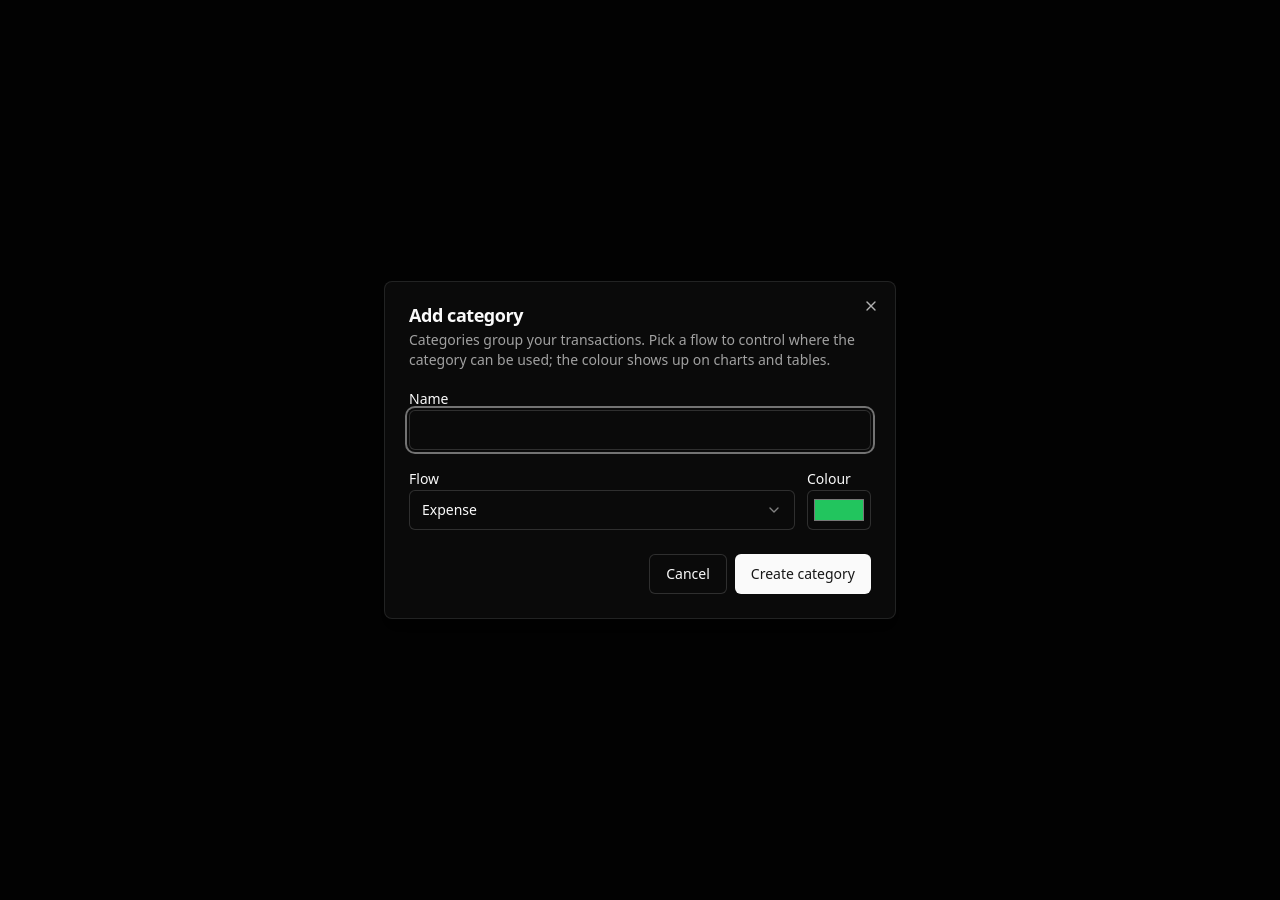
Test case: CreateCategoryDialog (controlled) › shows an error toast when creation fails
The image size is (1280, 900).
Type "Groceries" into the field with test id "category-name-input". click: (640, 430)
box: top-left (409, 410), bottom-right (871, 450)
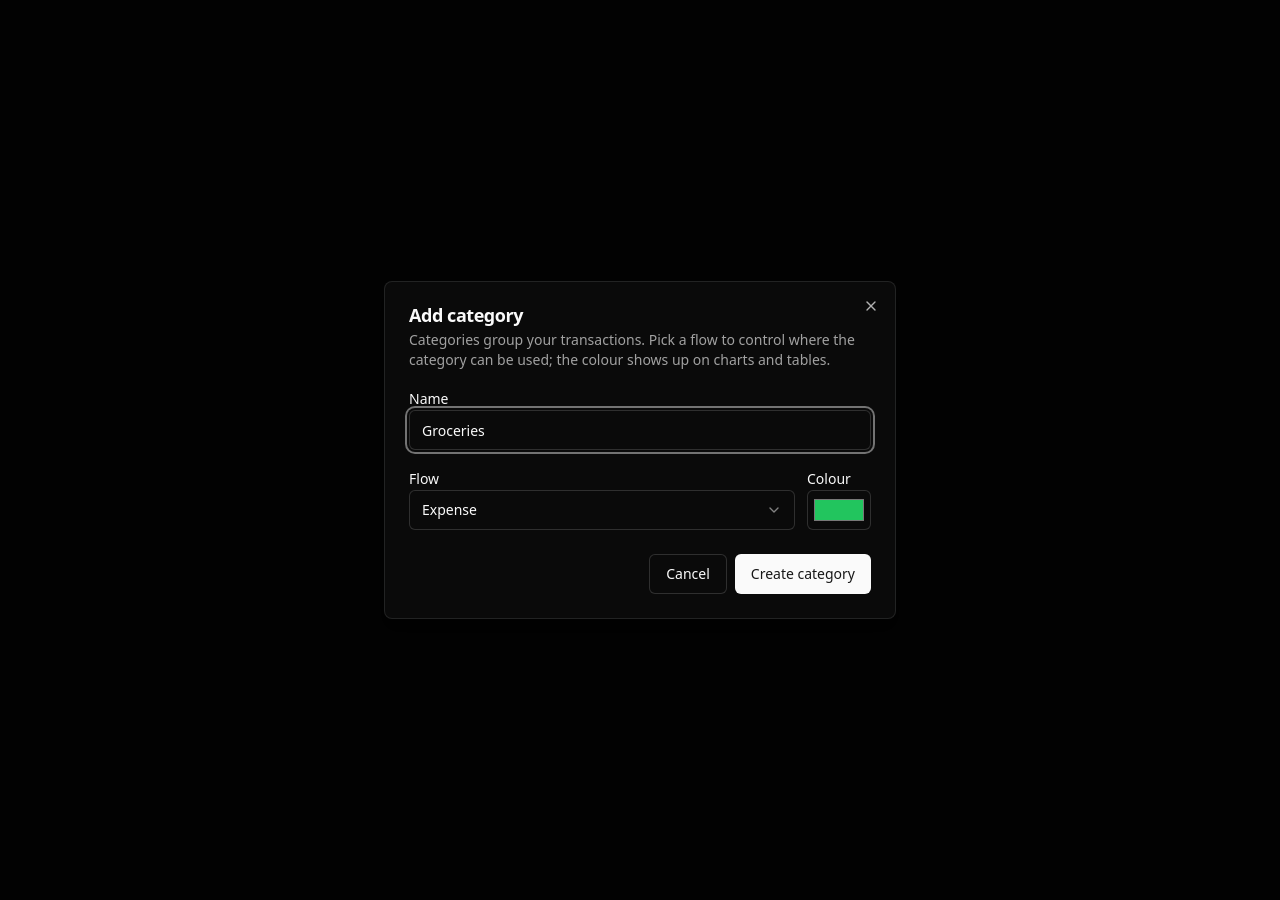
Click the button with test id "category-submit-button". click: (803, 574)
box: top-left (735, 554), bottom-right (871, 594)
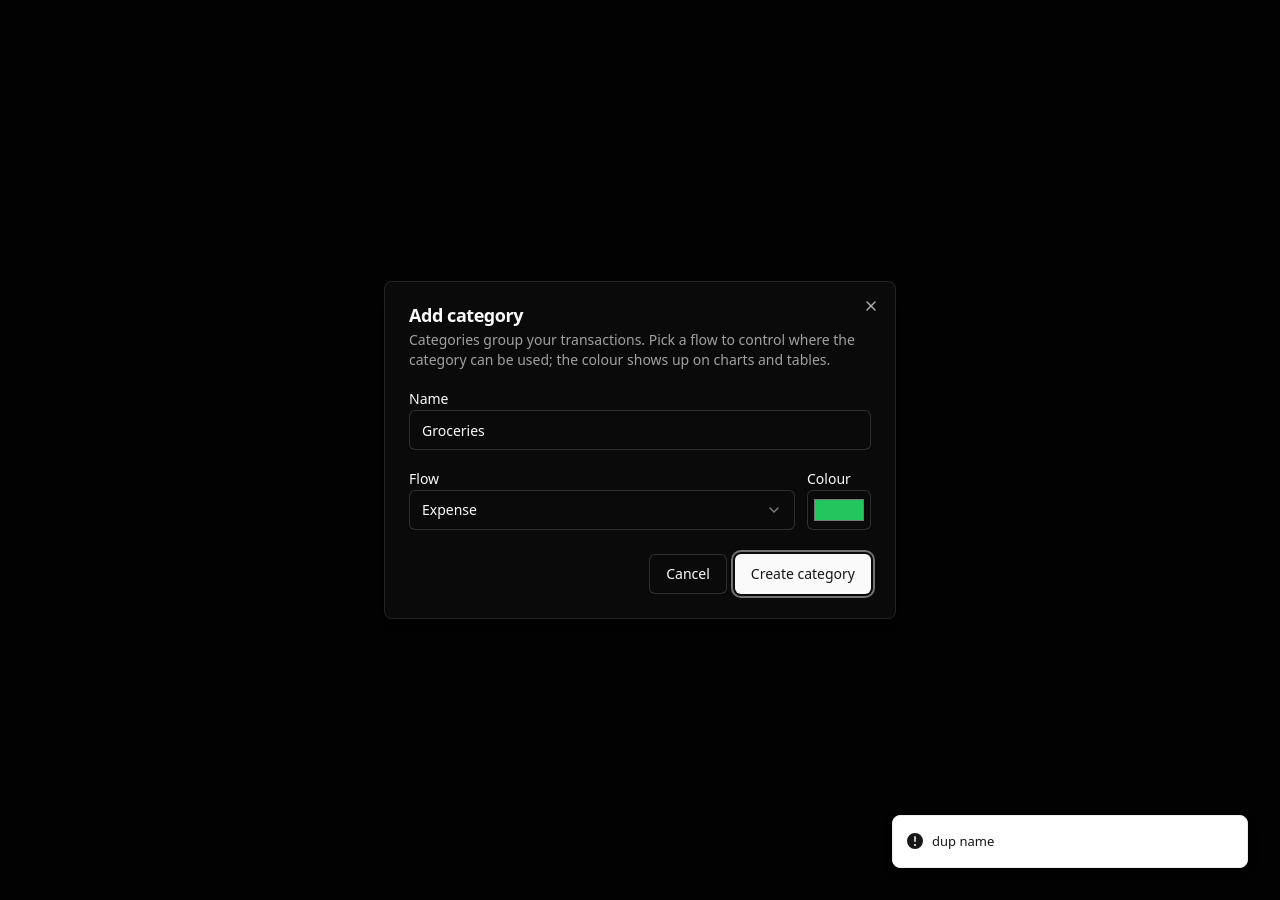
Now the text "dup name" is shown, box top-left (932, 832), bottom-right (994, 851)
